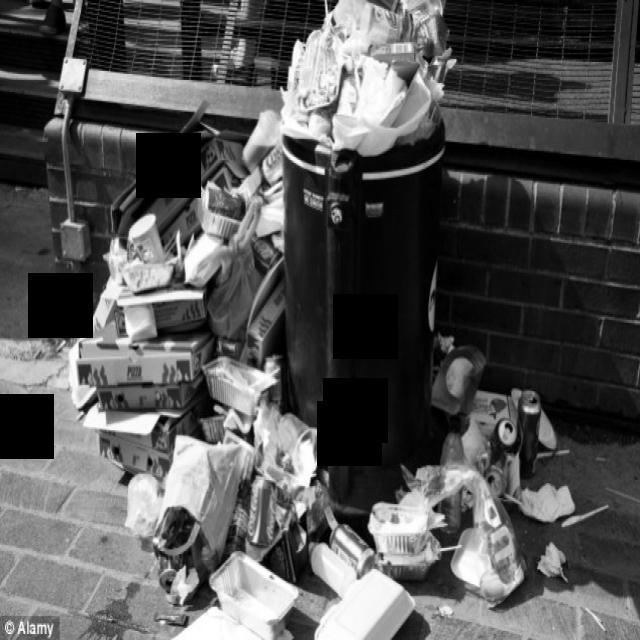Disposable: (202, 357, 274, 416), (375, 533, 441, 581), (278, 413, 322, 485), (368, 503, 426, 554), (199, 208, 239, 238)
Garbage: (70, 103, 326, 638), (369, 346, 575, 606), (284, 0, 452, 156)
Plastic_Bag: (414, 465, 526, 604), (190, 200, 261, 340), (332, 0, 401, 59)
Plastic_bottle: (222, 482, 250, 560), (336, 71, 362, 116)
Tetrapack: (370, 41, 415, 64)
can: (330, 525, 375, 578), (246, 477, 278, 545), (518, 391, 541, 478), (485, 424, 509, 496), (206, 183, 245, 220), (262, 355, 285, 413), (158, 555, 184, 592), (441, 432, 465, 464), (495, 419, 518, 450)
